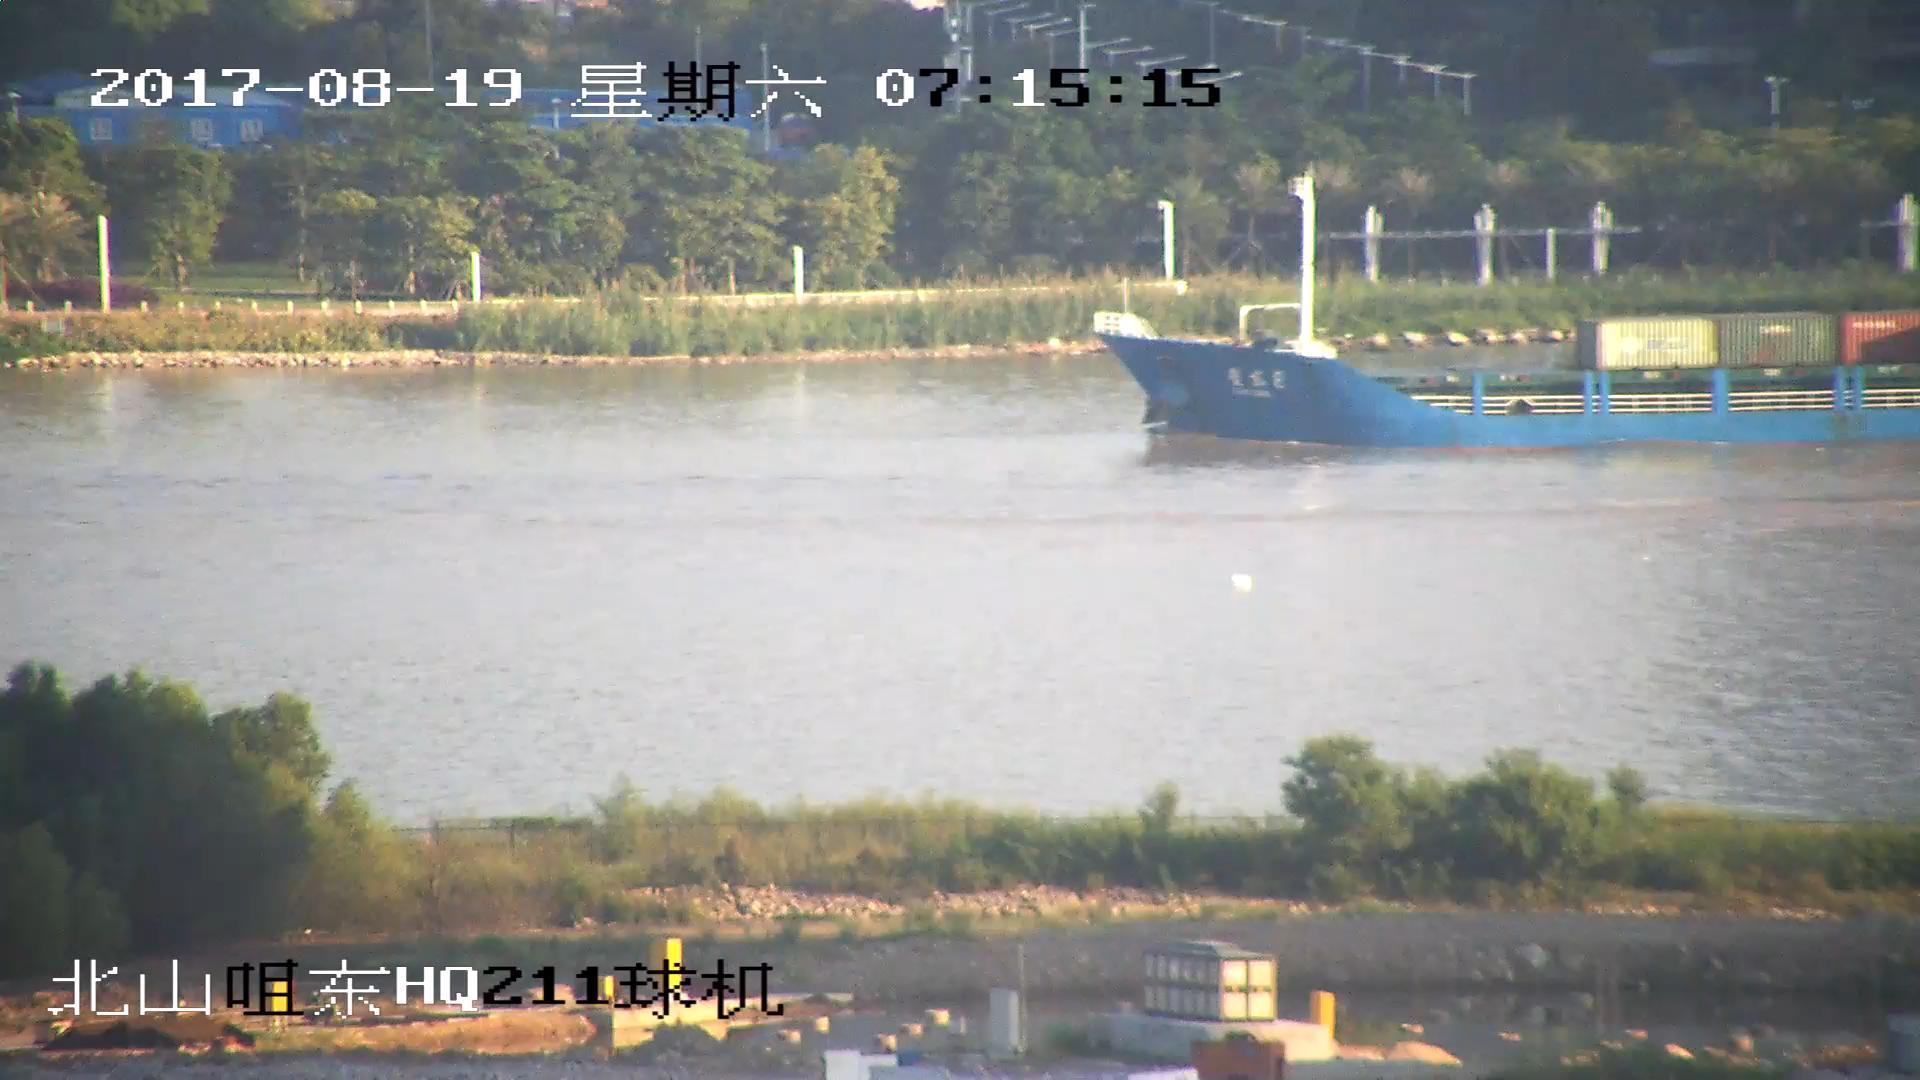Ship: (1096, 177, 1920, 450)
